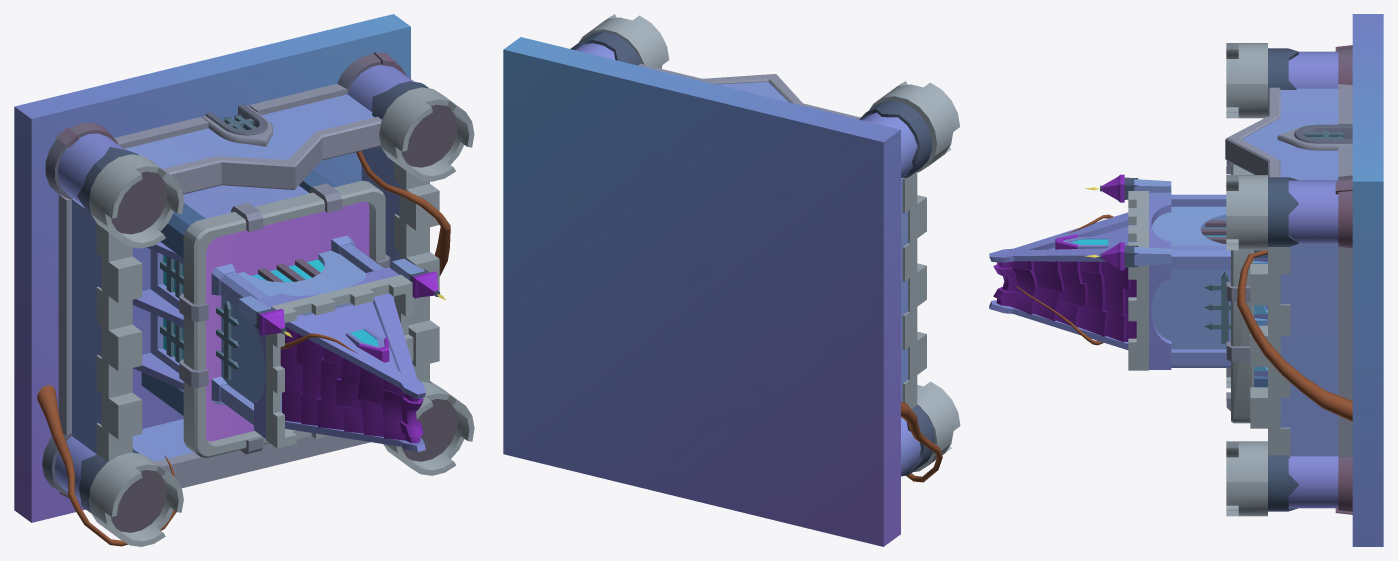
The model's file is Level_196.fbx.
The picture shows the model from 3 angles, left to right: view 1: azimuth 30°, elevation 25°; view 2: azimuth 150°, elevation 25°; view 3: azimuth 270°, elevation 25°; orthographic projection. The views are drawn at different scales.
Visible parts, largest first — view 1: Cube_L3 19.001, Cube_L3 18.001, Cube_L3 20.001, Cube_L3 2.006, Cube_L3.007, Cube_L2 45, Cube_L3 1.006, Cube_L2 43, Cube_L2 48, Cube_L1 7.008, Cube_L1 20.003, Cube_L2 37 (+67 smaller); view 2: Cube_L3 20.001, Cube_L3 18.001, Cube_L3 21.001, Cube_L3 19.001, Cube_L2 9.006, Cube_L2 45, Cube_L2 3.009, Cube_L2 43, Cube_L2 26.001, Cube_L2 13.004, Cube_L2 10.006, Cube_L2 2.009 (+6 smaller); view 3: Cube_L3 20.001, Cube_L2 31, Cube_L2 33, Cube_L1 20.003, Cube_L3 19.001, Cube_L3 5.005, Cube_L1 24.003, Cube_L1 13.005, Cube_L2 4.008, Cube_L2 56, Cube_L2 34, Cube_L2 36 (+39 smaller).
Boxes of the visible parts, x1,y1,x2,y2 form: Cube_L3 19.001: [14, 38, 310, 184]; Cube_L3 18.001: [14, 172, 220, 436]; Cube_L3 20.001: [14, 14, 410, 522]; Cube_L3 2.006: [206, 201, 369, 337]; Cube_L3.007: [179, 230, 208, 453]; Cube_L2 45: [96, 223, 142, 354]; Cube_L3 1.006: [186, 180, 382, 245]; Cube_L2 43: [96, 342, 142, 461]; Cube_L2 48: [155, 435, 370, 488]; Cube_L1 7.008: [285, 293, 417, 387]; Cube_L1 20.003: [221, 250, 394, 365]; Cube_L2 37: [163, 156, 295, 194]; Cube_L3 20.001: [503, 37, 900, 546]; Cube_L3 18.001: [604, 139, 900, 460]; Cube_L3 21.001: [604, 205, 761, 430]; Cube_L3 19.001: [604, 61, 900, 207]; Cube_L2 9.006: [869, 81, 959, 155]; Cube_L2 45: [902, 171, 926, 294]; Cube_L2 3.009: [579, 14, 669, 68]; Cube_L2 43: [902, 283, 926, 408]; Cube_L2 26.001: [917, 381, 960, 455]; Cube_L2 13.004: [862, 112, 917, 178]; Cube_L2 10.006: [902, 115, 931, 178]; Cube_L2 2.009: [593, 31, 641, 65]; Cube_L3 20.001: [1352, 137, 1383, 546]; Cube_L2 31: [1280, 243, 1338, 350]; Cube_L2 33: [1280, 350, 1338, 456]; Cube_L1 20.003: [1151, 206, 1230, 307]; Cube_L3 19.001: [1352, 14, 1383, 137]; Cube_L3 5.005: [1226, 250, 1253, 421]; Cube_L1 24.003: [1128, 264, 1171, 362]; Cube_L1 13.005: [1056, 261, 1108, 336]; Cube_L2 4.008: [1288, 180, 1338, 243]; Cube_L2 56: [1250, 246, 1290, 351]; Cube_L2 34: [1338, 246, 1352, 458]; Cube_L2 36: [1242, 88, 1338, 139].
Bounding box in the file's own units: 20.67 × 20.96 × 20.49.
